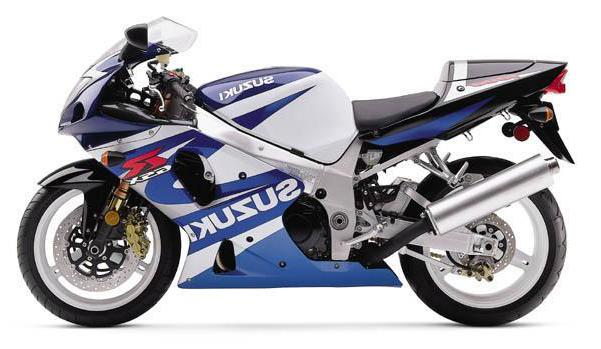motorcycle: (6, 7, 587, 338)
